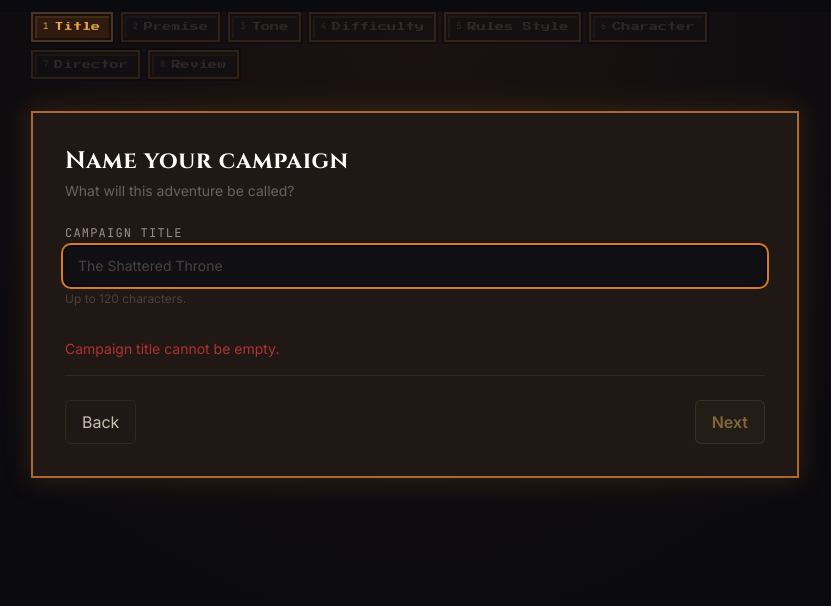
CampaignWizard — navigation › Back returns to the previous step
Type "Test" into the field labelled "Campaign Title" at [415, 266], box [65,247,765,285]
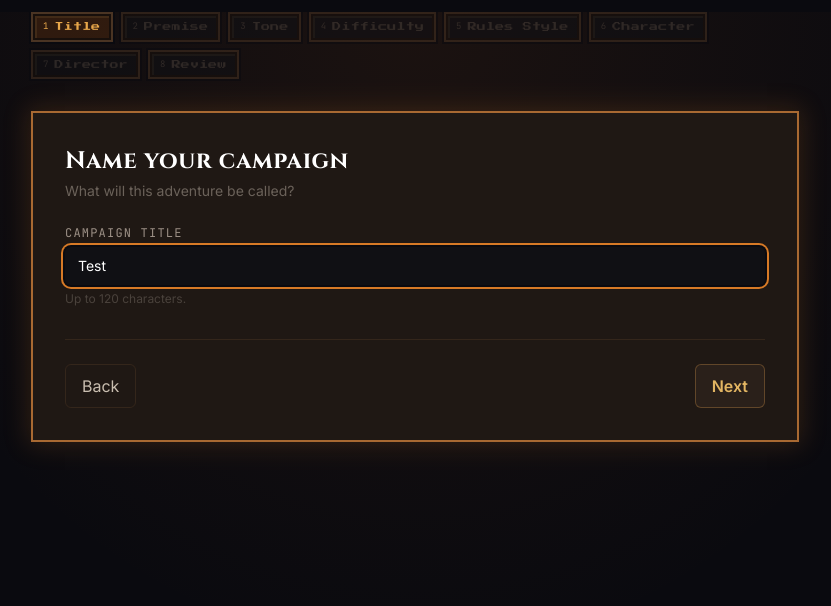
Click the button "Next" at [730, 386], box [695,364,765,408]
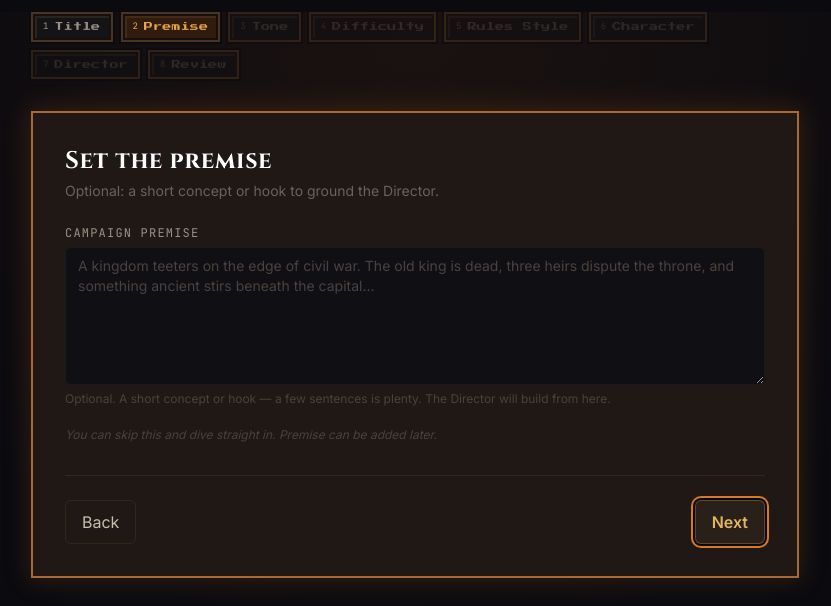
Expected: the heading "Set the premise" is shown, [65,145,272,177]
Click the button "Back" at [101, 522], box [65,500,136,544]
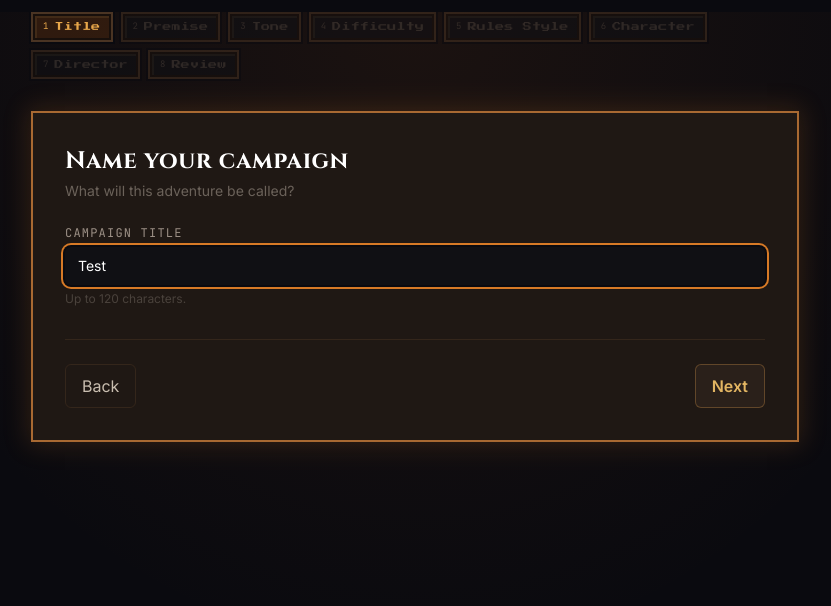
Expected: the heading "Name your campaign" is shown, [65,145,349,177]
